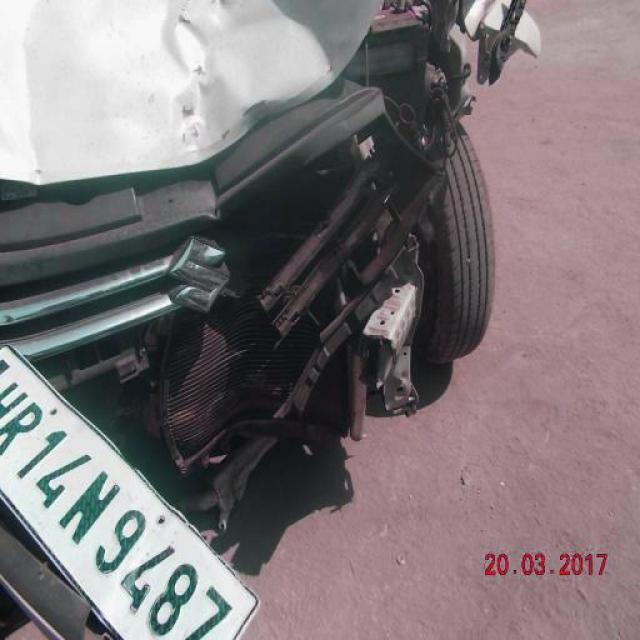Car-Damage: (0, 4, 519, 625), (172, 1, 370, 155)
